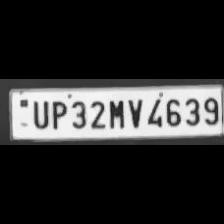2: (88, 98, 106, 130)
3: (68, 97, 88, 128), (182, 95, 200, 127)
4: (144, 94, 162, 128)
6: (163, 95, 181, 127)
9: (200, 93, 220, 126)
M: (106, 96, 126, 130)
P: (47, 97, 66, 128)
U: (29, 97, 48, 128)
V: (124, 96, 142, 128)
